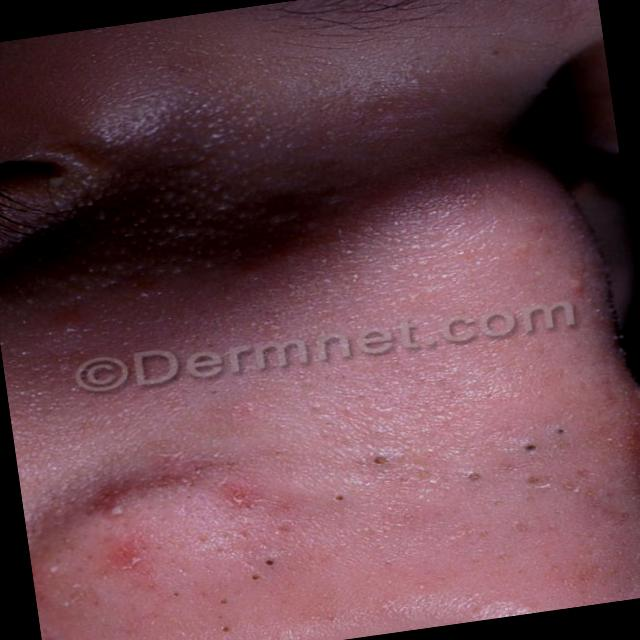blackhead: (372, 455, 388, 466), (468, 472, 482, 482), (527, 476, 540, 486), (524, 443, 538, 452), (334, 495, 344, 502), (220, 626, 230, 633), (265, 559, 274, 566), (210, 388, 219, 394), (236, 494, 246, 499), (556, 428, 564, 434), (252, 575, 260, 581), (220, 599, 228, 605), (207, 343, 215, 348), (227, 461, 235, 466), (194, 468, 203, 472), (173, 592, 180, 597), (218, 615, 223, 620), (186, 495, 191, 499)
